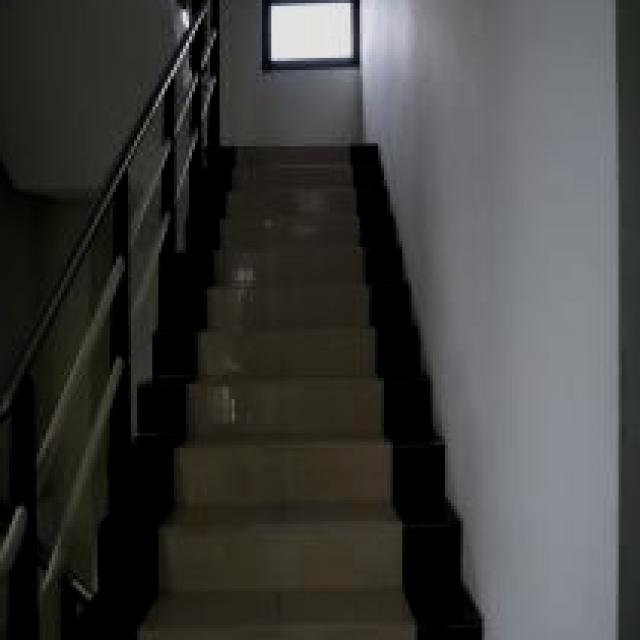upstair: (160, 150, 425, 640)
